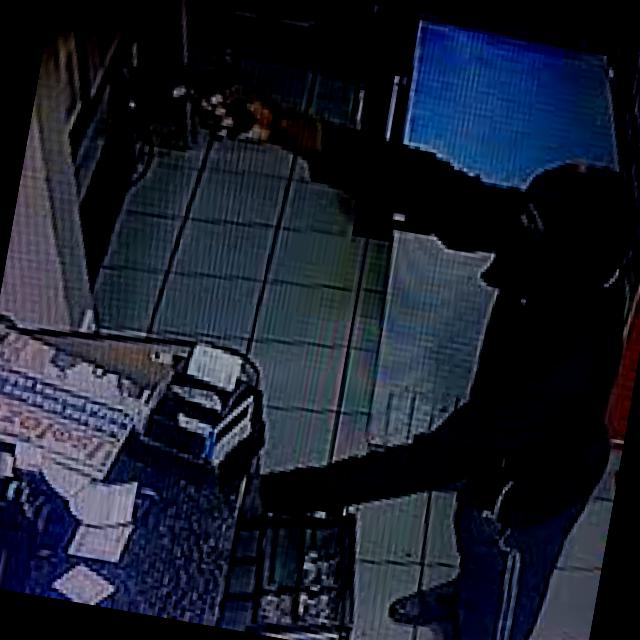handgun: (97, 32, 269, 141)
